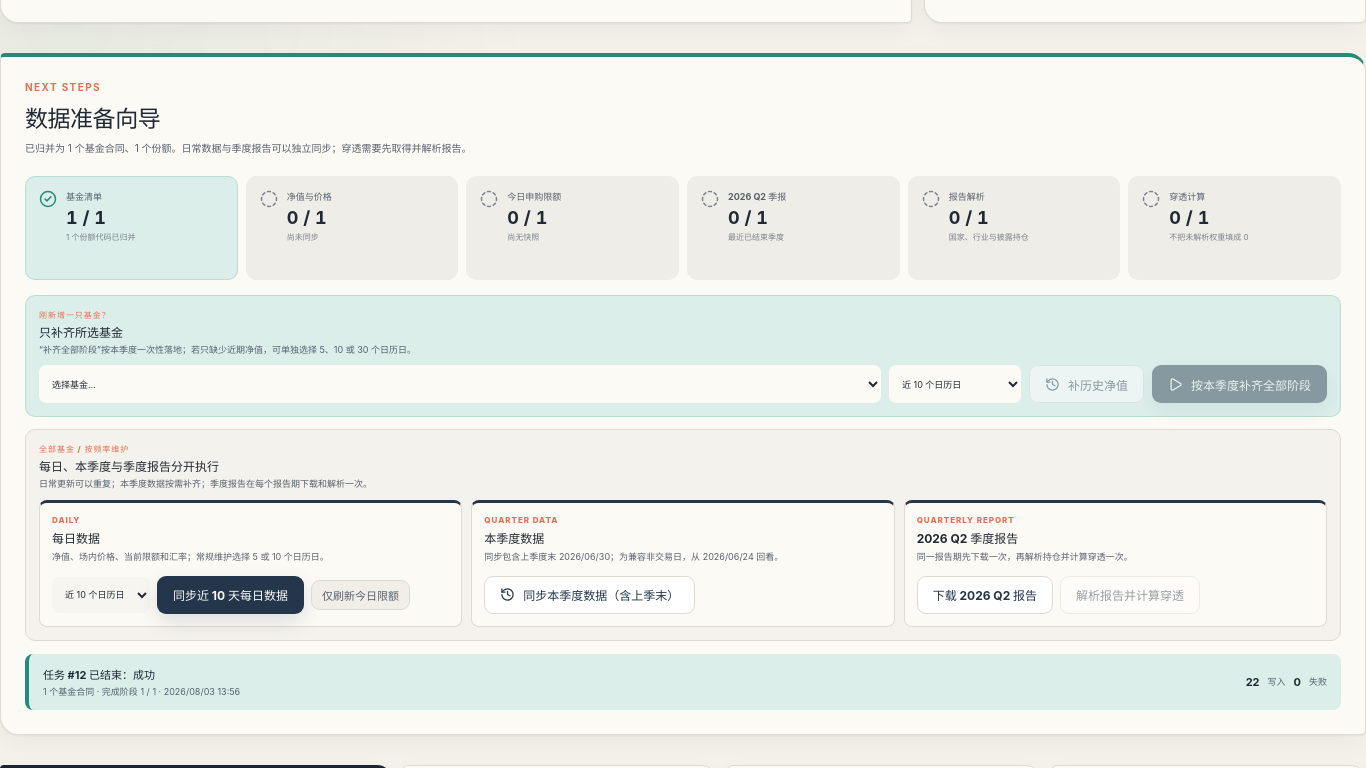
DataOpsPage purchase-limit coverage › submits a forced manual retry even when a newer unrelated task exists
(page scrolled)
Select "002891 · 华夏移动互联混合人民币" in the dropdown named "选择要补齐的基金" at coordinates (460, 384), box [39, 365, 881, 403]
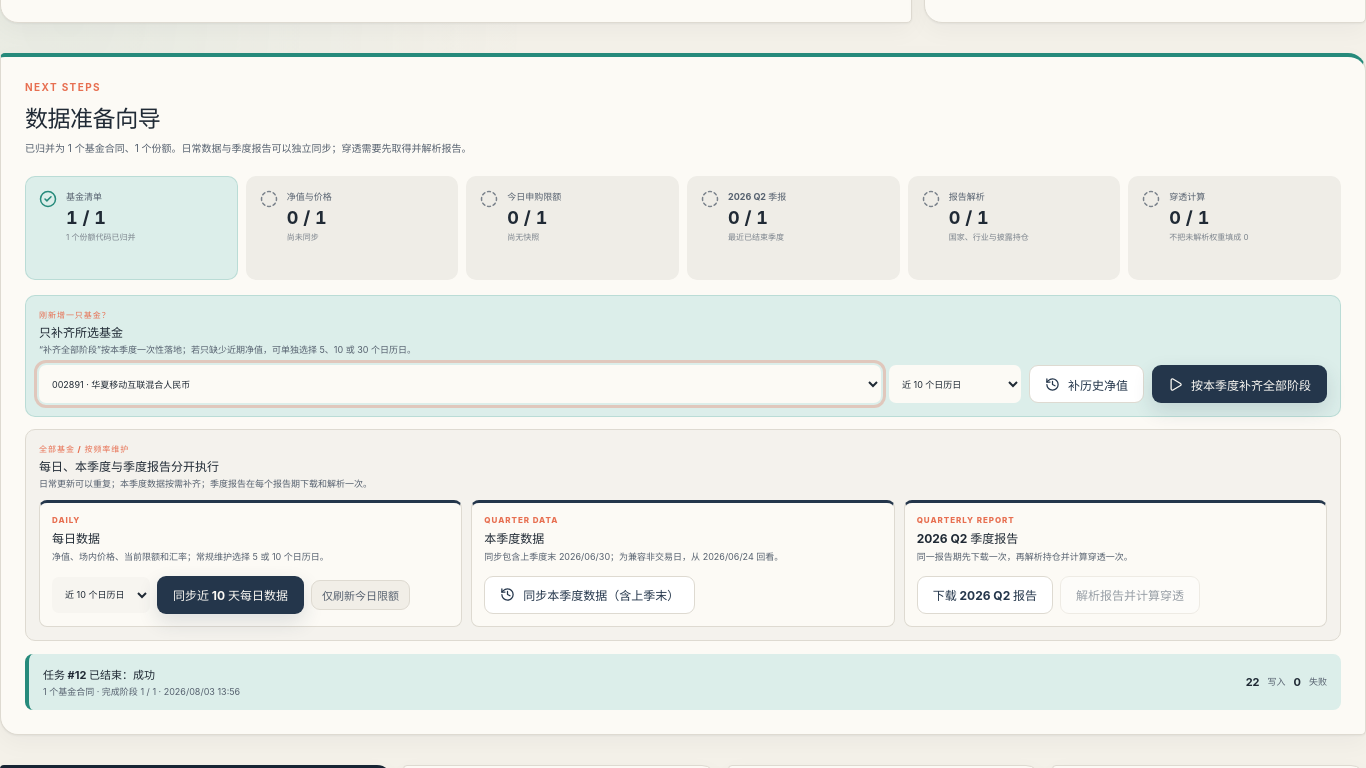
Select "近 30 个日历日" in the dropdown named "选择日常数据回看范围" at coordinates (955, 384), box [889, 365, 1021, 403]
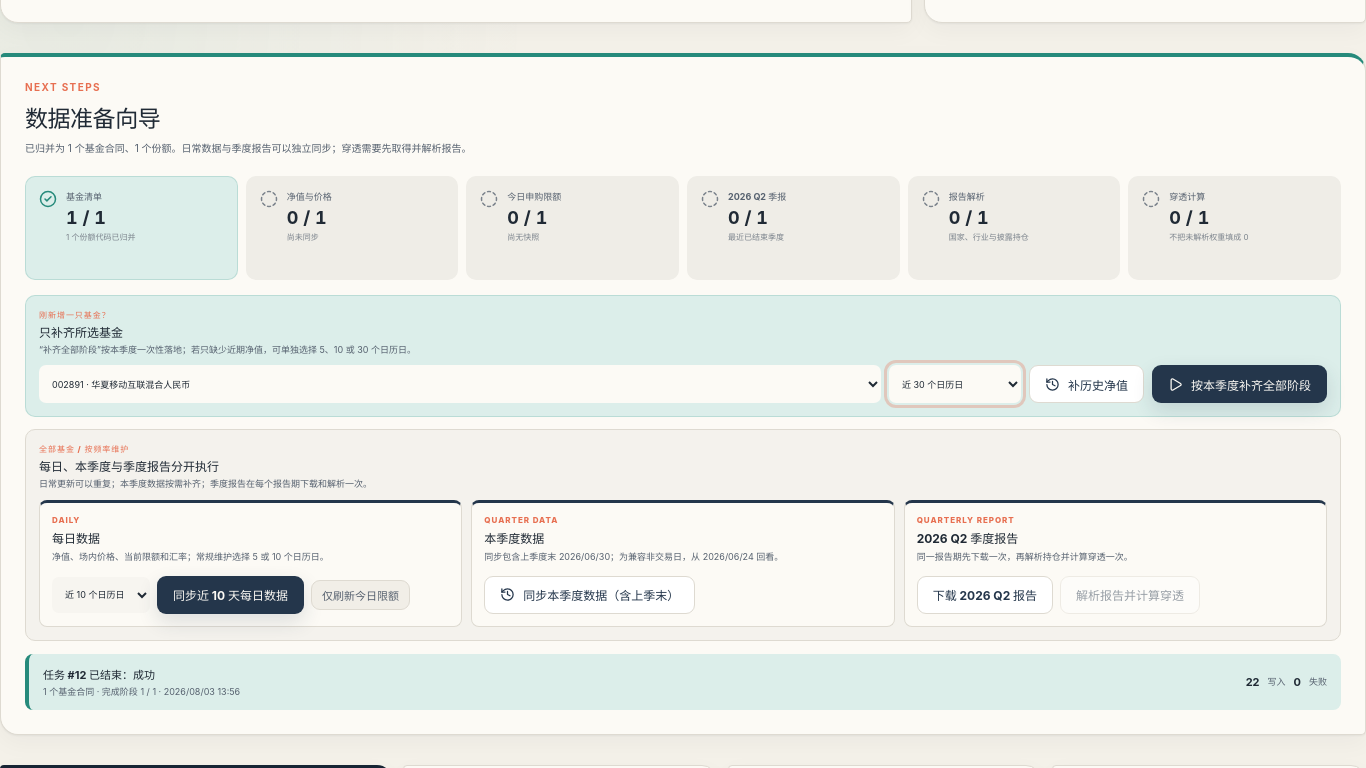
Click the button "补历史净值" at coordinates (1086, 384), box [1029, 365, 1144, 403]
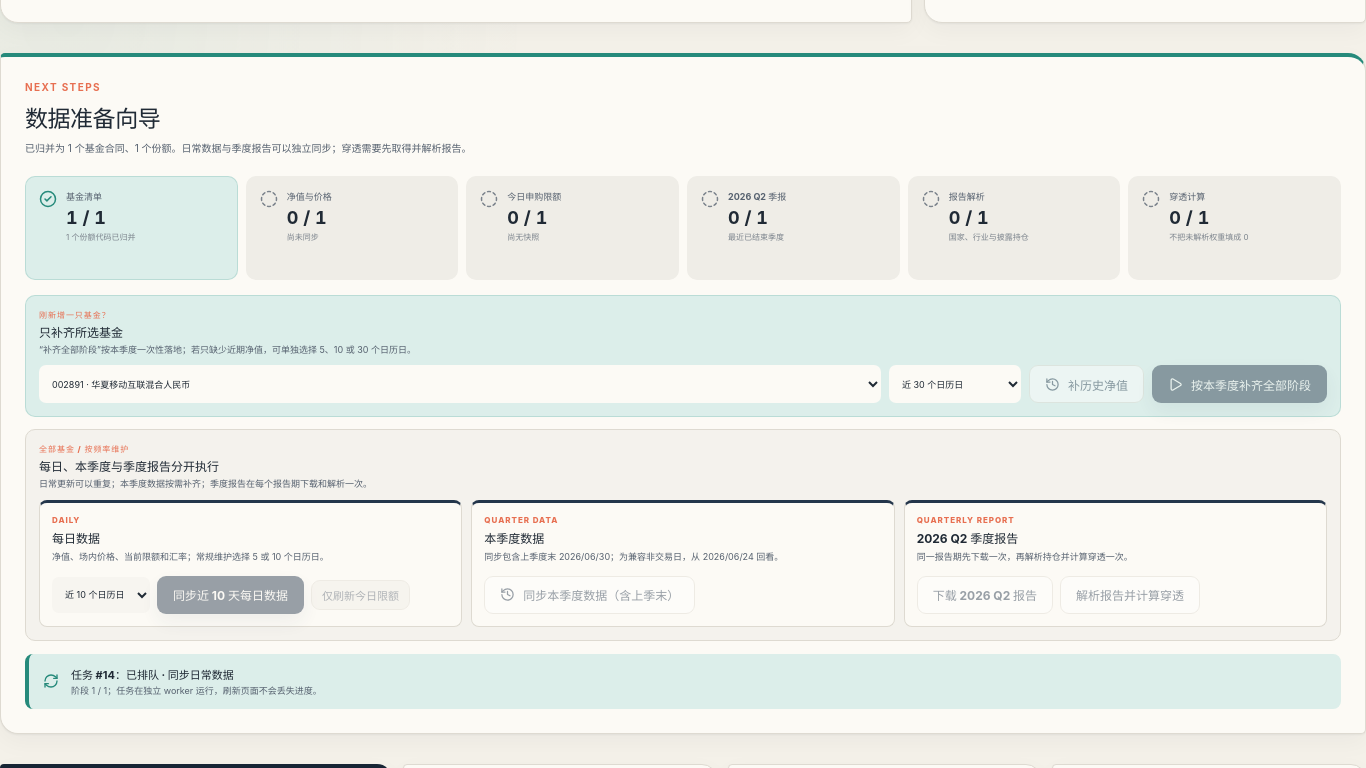
Check: the text "任务 #14：已排队 · 同步日常数据" is shown, box [71, 666, 234, 682]
